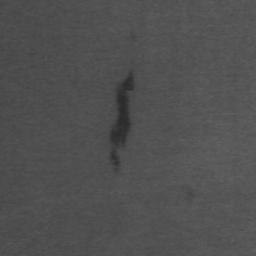Iron scale compression: (110, 71, 134, 175)
